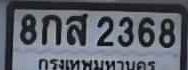2: (96, 15, 112, 45)
3: (117, 16, 133, 46)
6: (137, 16, 154, 46)
8: (19, 13, 36, 44), (158, 17, 174, 47)
A01: (41, 14, 61, 44)
A40: (66, 13, 87, 45)
BKK: (36, 56, 158, 70)
